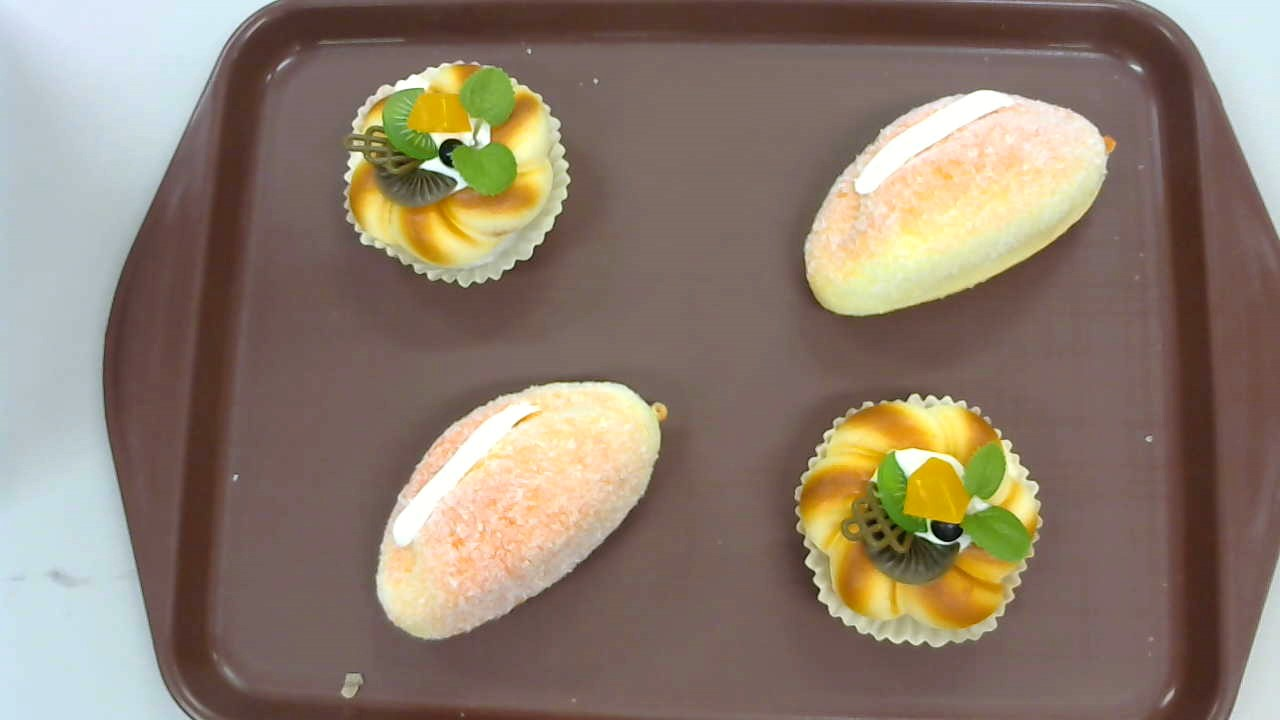coconut: (376, 377, 670, 643), (804, 88, 1117, 316)
fruit tart: (793, 393, 1044, 650), (341, 59, 572, 289)
